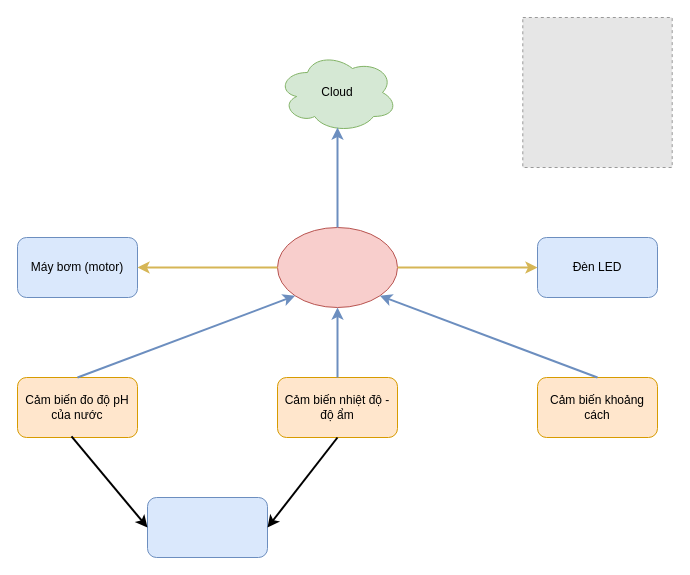
The diagram is 690 pixels wide and 575 high, and some of its shapes have lost their labels. Grey dashed boxes stand in for pictures. Each missing label, with the centre of its shape:
Màn hình LCD: the point at 207,527
Web: the point at 337,267
